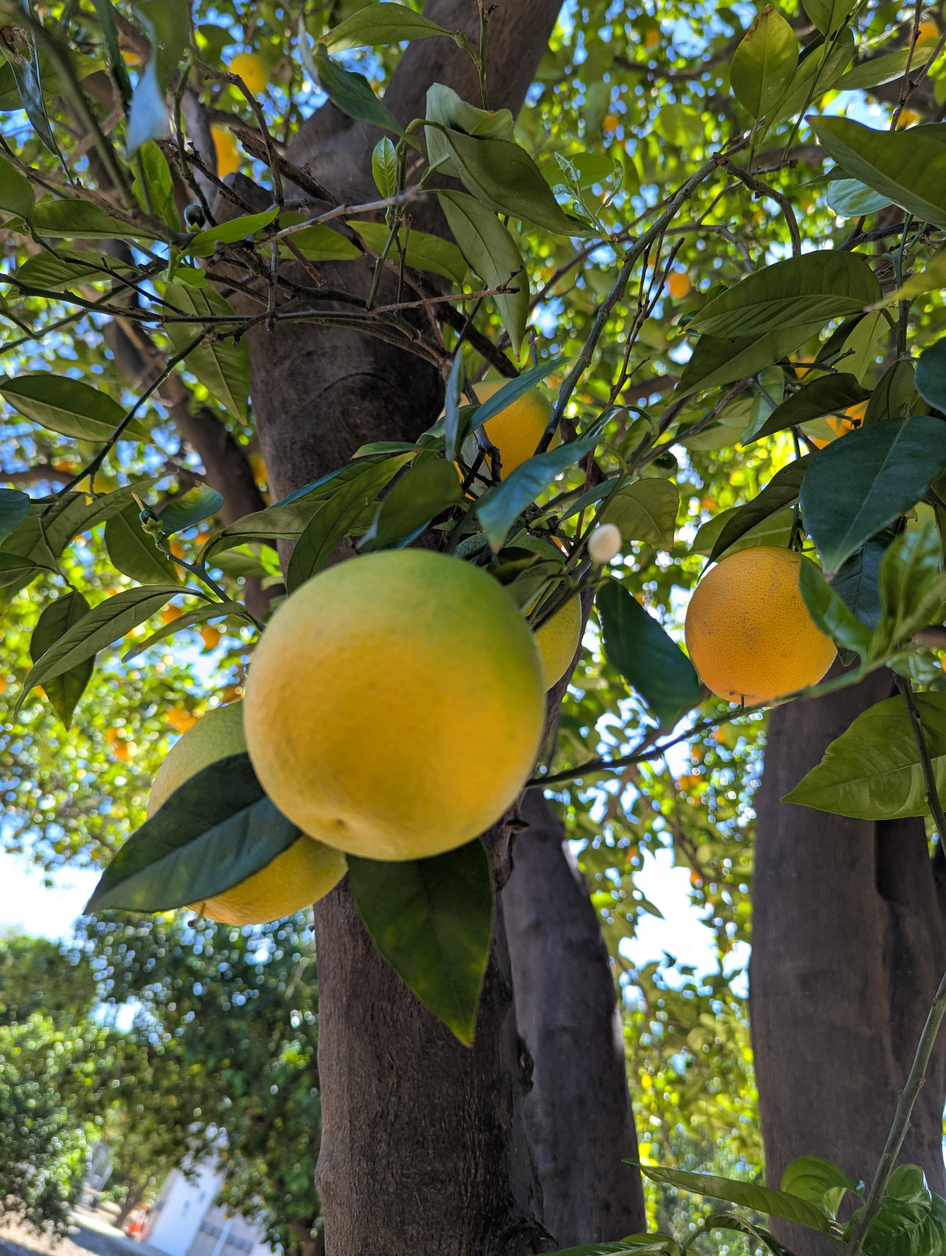orange: (243, 549, 544, 861), (145, 699, 358, 925), (685, 546, 843, 706), (447, 531, 582, 693), (431, 377, 561, 501), (229, 53, 272, 94), (835, 390, 875, 429), (211, 128, 240, 180), (813, 415, 851, 451)
